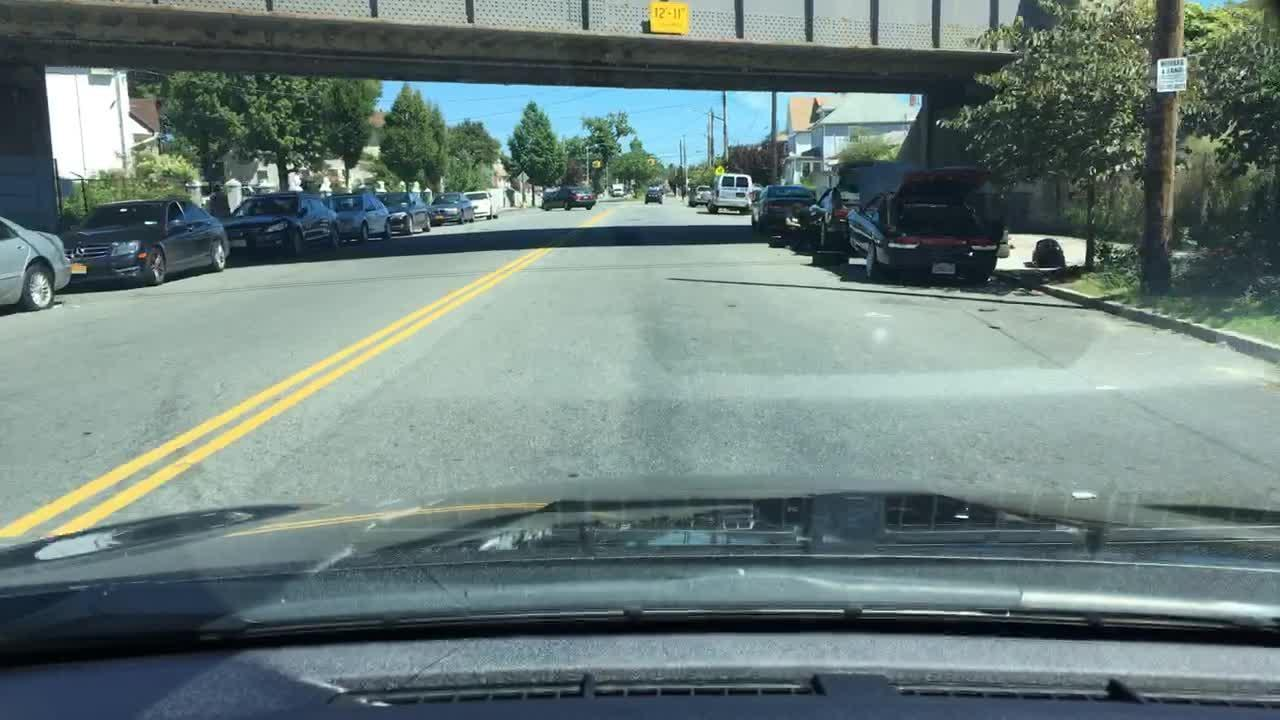Mercedes: (70, 246, 88, 262)
